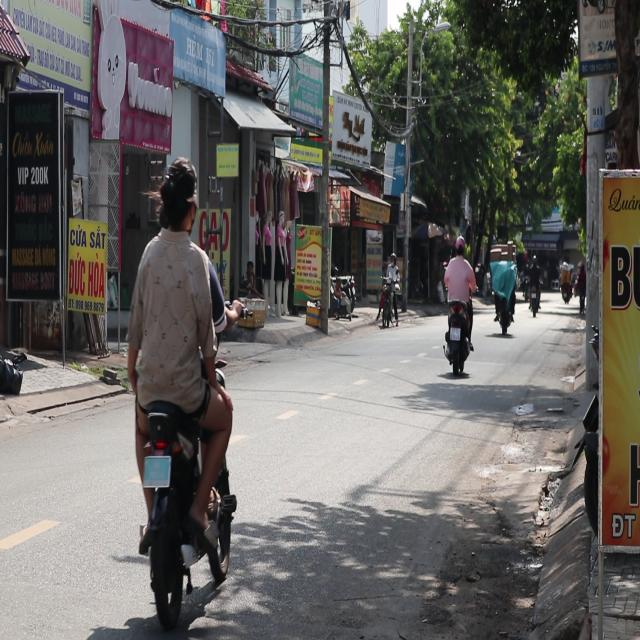licenseplate: (125, 153, 241, 635)
motorcyclist: (156, 156, 199, 234)
